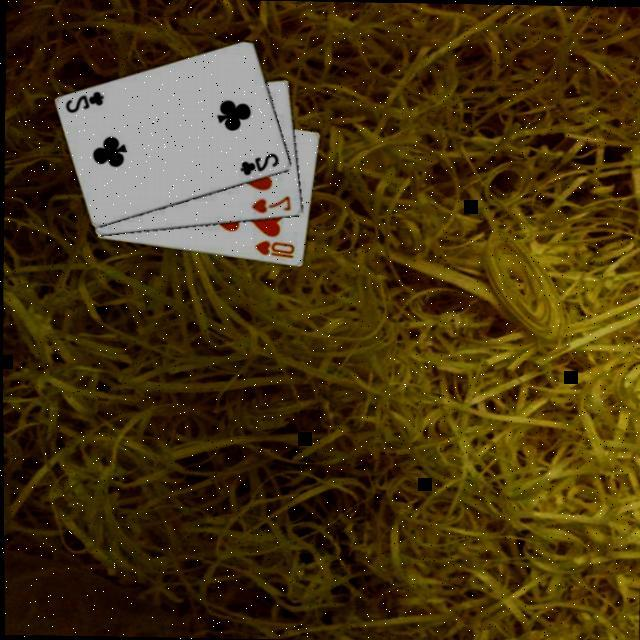10H: (253, 238, 297, 262)
2C: (238, 151, 282, 180), (64, 89, 108, 118)
7H: (250, 192, 295, 217)
